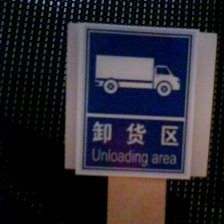unload: (74, 25, 197, 181)
